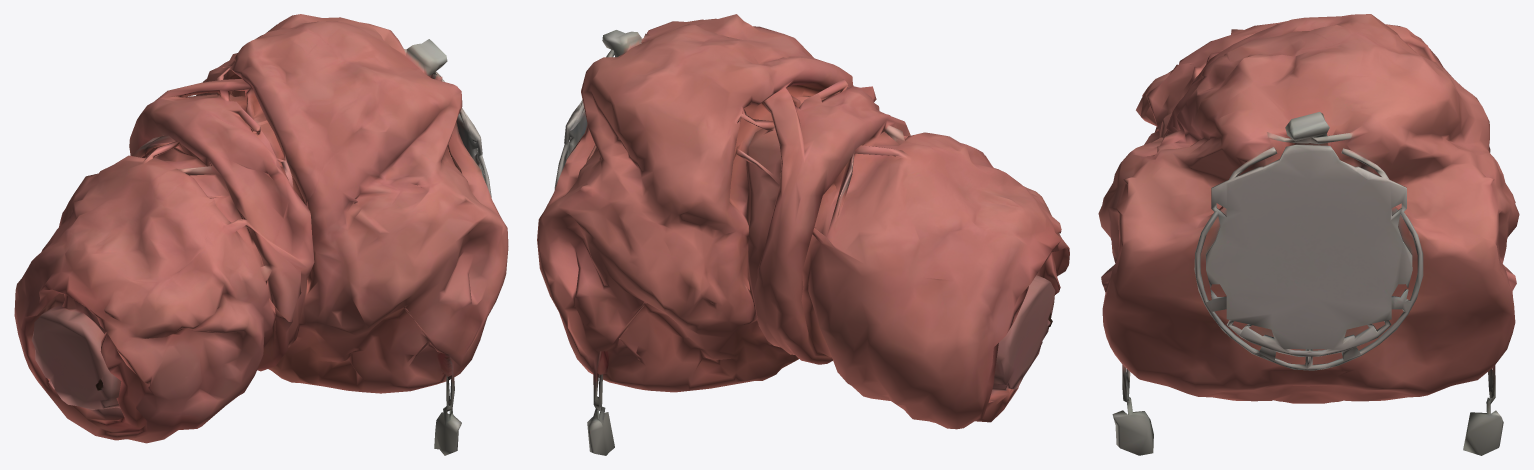
File: clump-limb-upper.glb
3 renders of one model, left to right at view 1: azimuth 30°, elevation 25°; view 2: azimuth 150°, elevation 25°; view 3: azimuth 270°, elevation 25°, orthographic. The views are drawn at different scales.
Parts seen in each view (by area): view 1: tripo_node_1139cf91-9acd-494d-9ead-f4e9e605d81a; view 2: tripo_node_1139cf91-9acd-494d-9ead-f4e9e605d81a; view 3: tripo_node_1139cf91-9acd-494d-9ead-f4e9e605d81a.
Part boxes in pixels (box(x1,y1,x2,y2)): tripo_node_1139cf91-9acd-494d-9ead-f4e9e605d81a: box(14, 14, 508, 455); tripo_node_1139cf91-9acd-494d-9ead-f4e9e605d81a: box(537, 14, 1069, 455); tripo_node_1139cf91-9acd-494d-9ead-f4e9e605d81a: box(1098, 14, 1519, 455).
Bounding box in the file's own units: 0.9808 × 0.8133 × 0.7777.
1 material, 1 textured.
